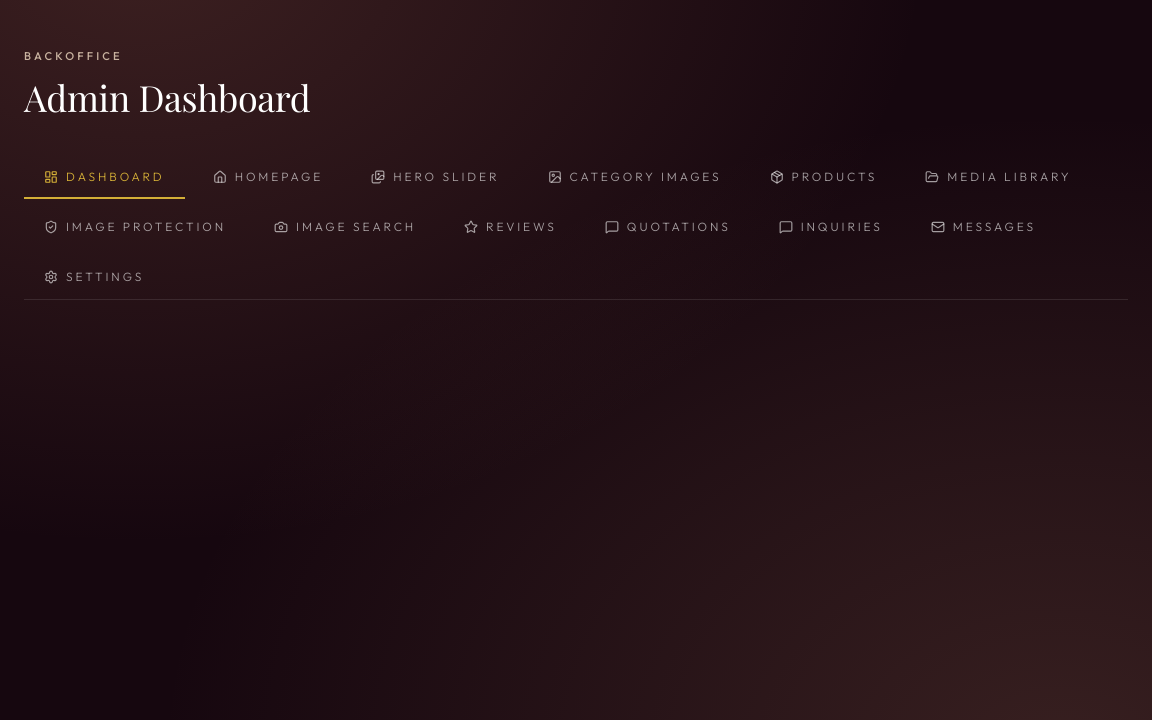
Test: Admin Messages — deletion controls › messages fetch error surfaces a retry UI
Click the button with test id "admin-tab-messages". click: (983, 228)
box: top-left (911, 207), bottom-right (1056, 249)
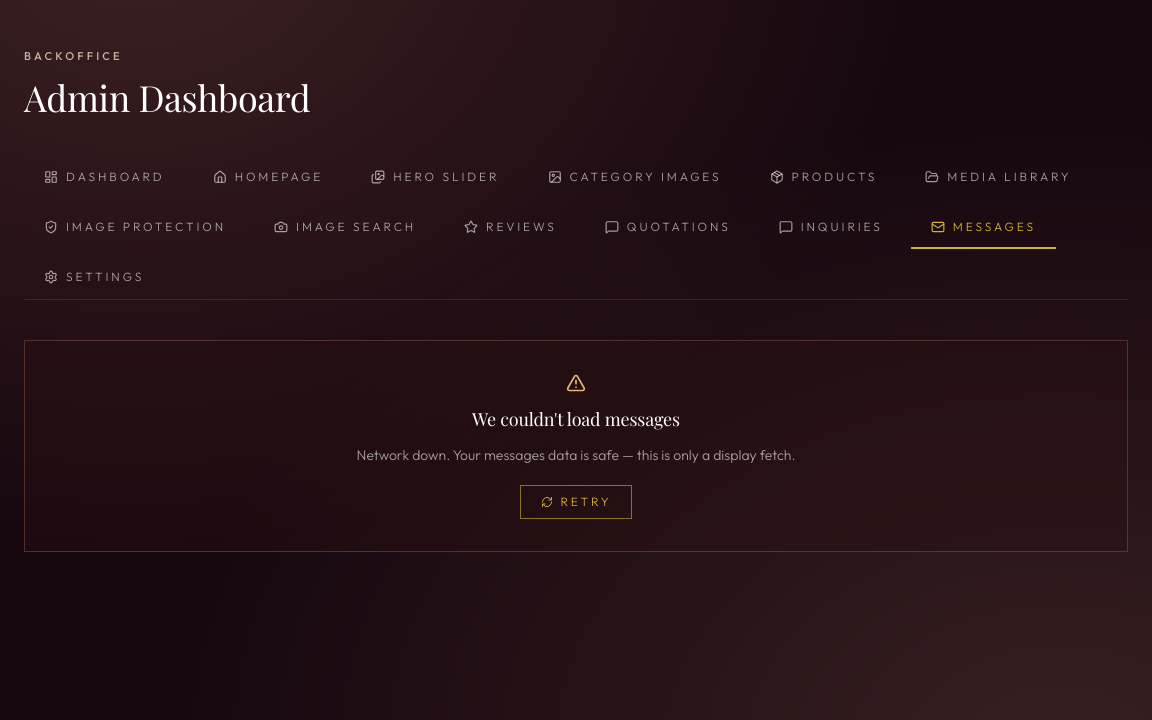
Expected: the message with test id "msg-error" shows "couldn't load messages", top-left (472, 407), bottom-right (680, 431)
Expected: the button with test id "msg-retry" is shown, top-left (520, 485), bottom-right (632, 519)
